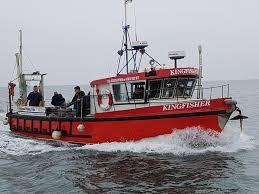fishing boat: (4, 1, 247, 149)
